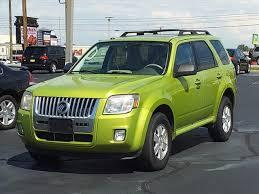Mercury: (51, 97, 74, 118)
